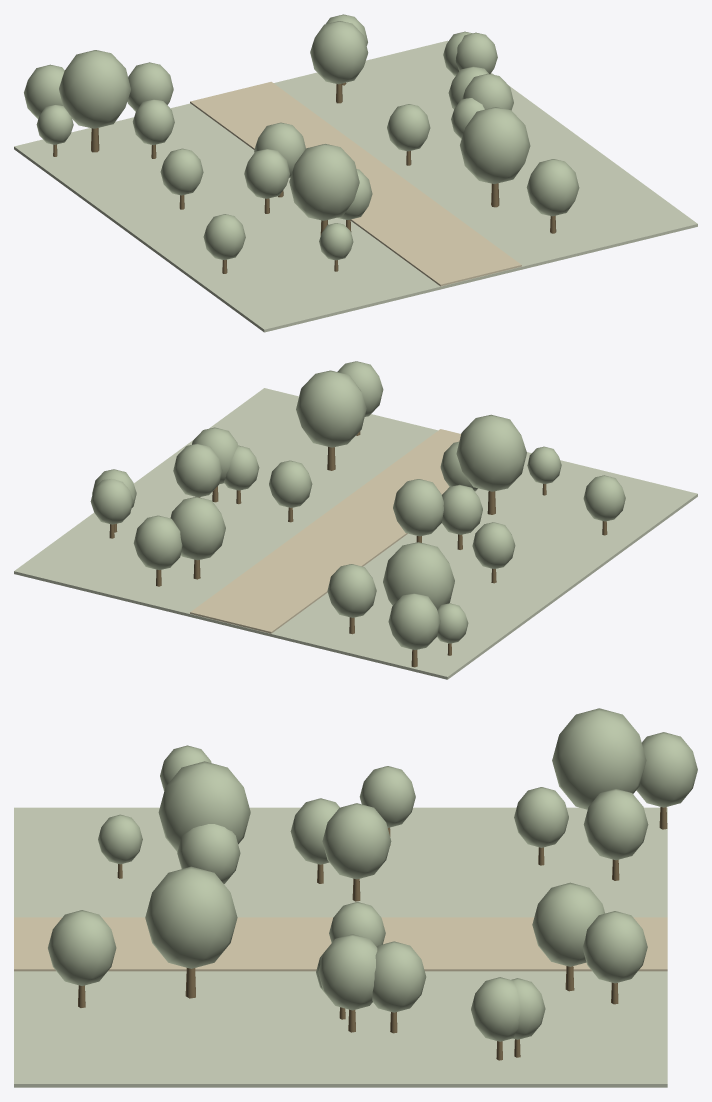
3 views of the same model, one above another, from view 1: azimuth 30°, elevation 25°; view 2: azimuth 150°, elevation 25°; view 3: azimuth 270°, elevation 25° (orthographic). The views are drawn at different scales.
Visible parts, largest first — view 1: terrain, object 2, lod-near-1, lod-near-25, lod-near-24, lod-near-4, lod-near-2, lod-near-5, lod-near-14, lod-near-12, lod-near-28, lod-near-13 (+11 smaller); view 2: terrain, object 2, lod-near-25, lod-near-24, lod-near-1, lod-near-4, lod-near-27, lod-near-31, lod-near-6, lod-near-14, lod-near-8, lod-near-5 (+10 smaller); view 3: terrain, object 2, lod-near-25, lod-near-1, lod-near-24, lod-near-4, lod-near-27, lod-near-2, lod-near-6, lod-near-22, lod-near-14, lod-near-31 (+10 smaller).
Boxes of the visible parts, x1,y1,x2,y2 form: terrain: [14, 40, 697, 332]; object 2: [190, 81, 521, 286]; lod-near-1: [59, 50, 130, 128]; lod-near-25: [460, 107, 530, 183]; lod-near-24: [289, 144, 359, 220]; lod-near-4: [310, 21, 368, 84]; lod-near-2: [526, 159, 579, 216]; lod-near-5: [244, 148, 289, 198]; lod-near-14: [127, 62, 173, 111]; lod-near-12: [387, 104, 430, 151]; lod-near-28: [160, 148, 203, 195]; lod-near-13: [203, 214, 245, 260]; terrain: [14, 388, 697, 679]; object 2: [190, 429, 460, 633]; lod-near-25: [296, 370, 366, 447]; lod-near-24: [456, 414, 526, 491]; lod-near-1: [383, 542, 454, 609]; lod-near-4: [170, 497, 225, 560]; lod-near-27: [393, 479, 443, 536]; lod-near-31: [388, 593, 440, 649]; lod-near-6: [133, 515, 182, 569]; lod-near-14: [327, 564, 376, 617]; lod-near-8: [173, 443, 222, 497]; lod-near-5: [442, 484, 482, 534]; terrain: [14, 807, 667, 1087]; object 2: [14, 917, 667, 971]; lod-near-25: [145, 866, 237, 968]; lod-near-1: [552, 708, 646, 809]; lod-near-24: [158, 761, 250, 851]; lod-near-4: [532, 882, 605, 966]; lod-near-27: [322, 803, 391, 879]; lod-near-2: [48, 910, 116, 985]; lod-near-6: [582, 911, 647, 983]; lod-near-22: [318, 934, 377, 1010]; lod-near-14: [583, 789, 648, 860]; lod-near-31: [636, 732, 697, 807].
Bounding box in the file's own units: 32 × 7.3 × 33.48.
